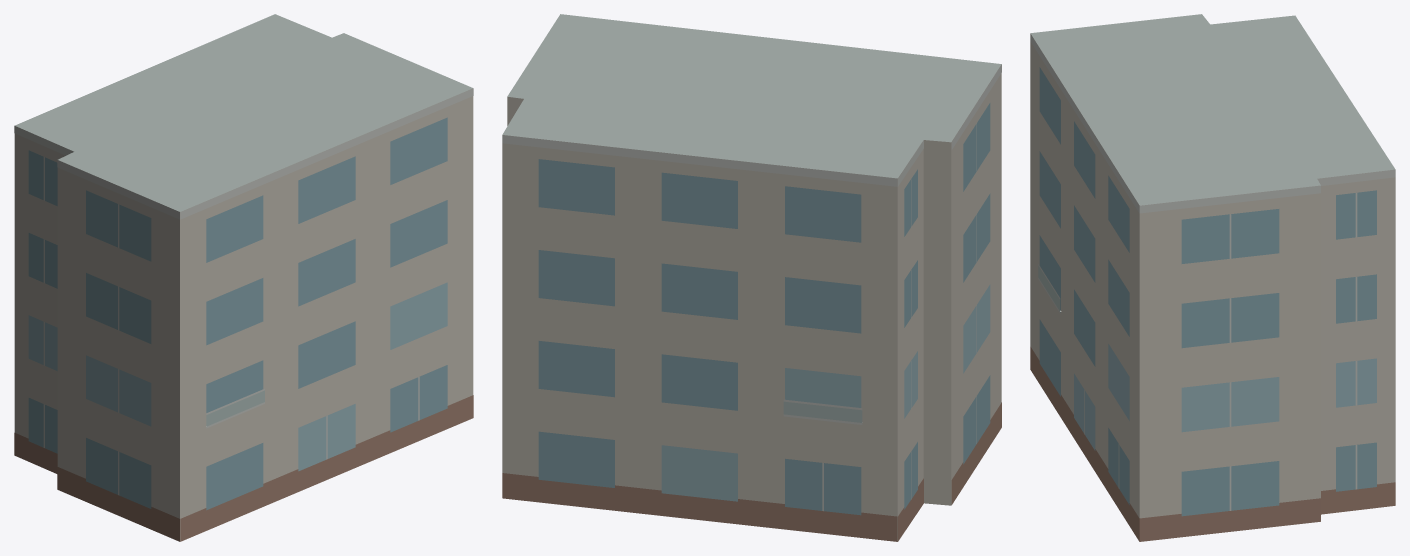
File: survey-upis-32986994.glb
The picture shows the model from 3 angles, left to right: view 1: azimuth 30°, elevation 25°; view 2: azimuth 150°, elevation 25°; view 3: azimuth 270°, elevation 25°; orthographic projection. The views are drawn at different scales.
Parts seen in each view (by area): view 1: survey-upis-32986994.tmp; view 2: survey-upis-32986994.tmp; view 3: survey-upis-32986994.tmp.
Part boxes in pixels (box(x1,y1,x2,y2)): survey-upis-32986994.tmp: box(14, 14, 473, 541); survey-upis-32986994.tmp: box(502, 14, 1001, 541); survey-upis-32986994.tmp: box(1030, 14, 1395, 541).
Bounding box in the file's own units: 12.85 × 10.5 × 10.35.
